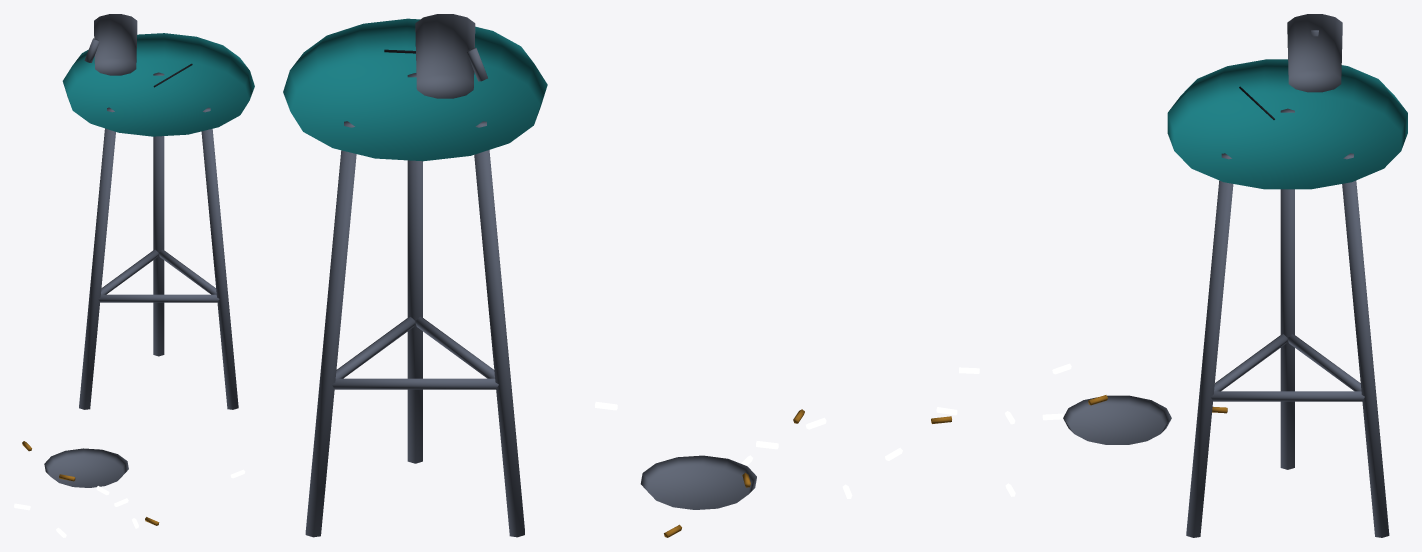
Rendered from room-detail-klinika-props.glb.
3 renders of one model, left to right at view 1: azimuth 30°, elevation 25°; view 2: azimuth 150°, elevation 25°; view 3: azimuth 270°, elevation 25°, orthographic. The views are drawn at different scales.
Parts seen in each view (by area): view 1: rd-clinic-stool; view 2: rd-clinic-stool; view 3: rd-clinic-stool.
Boxes of the visible parts, x1,y1,x2,y2 form: rd-clinic-stool: [14, 14, 254, 537]; rd-clinic-stool: [283, 14, 902, 537]; rd-clinic-stool: [931, 14, 1407, 537].
Size of the model in its own units: 0.675 by 0.7562 by 0.7003.
1 material, 1 textured.
